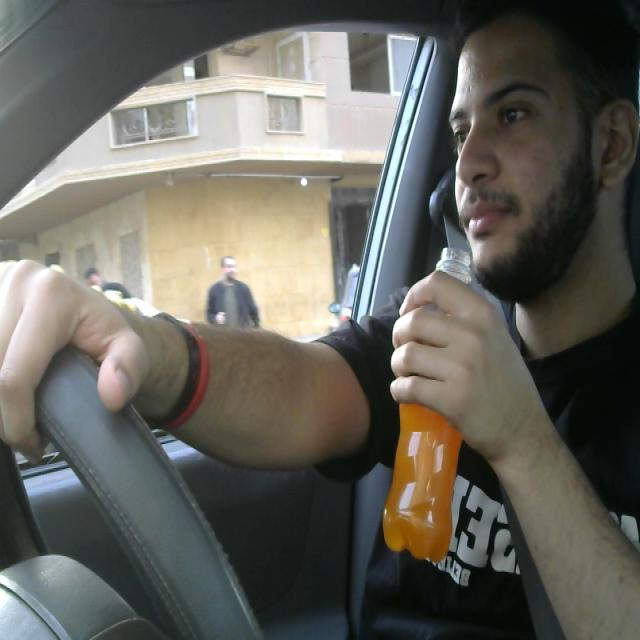drinking: (376, 246, 480, 564)
